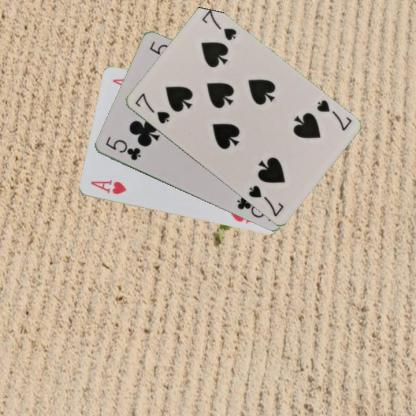5c: (102, 134, 142, 162)
7s: (132, 90, 171, 126), (313, 97, 353, 132)
Ah: (88, 177, 128, 196)
